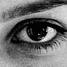eye: (27, 24, 47, 40)
